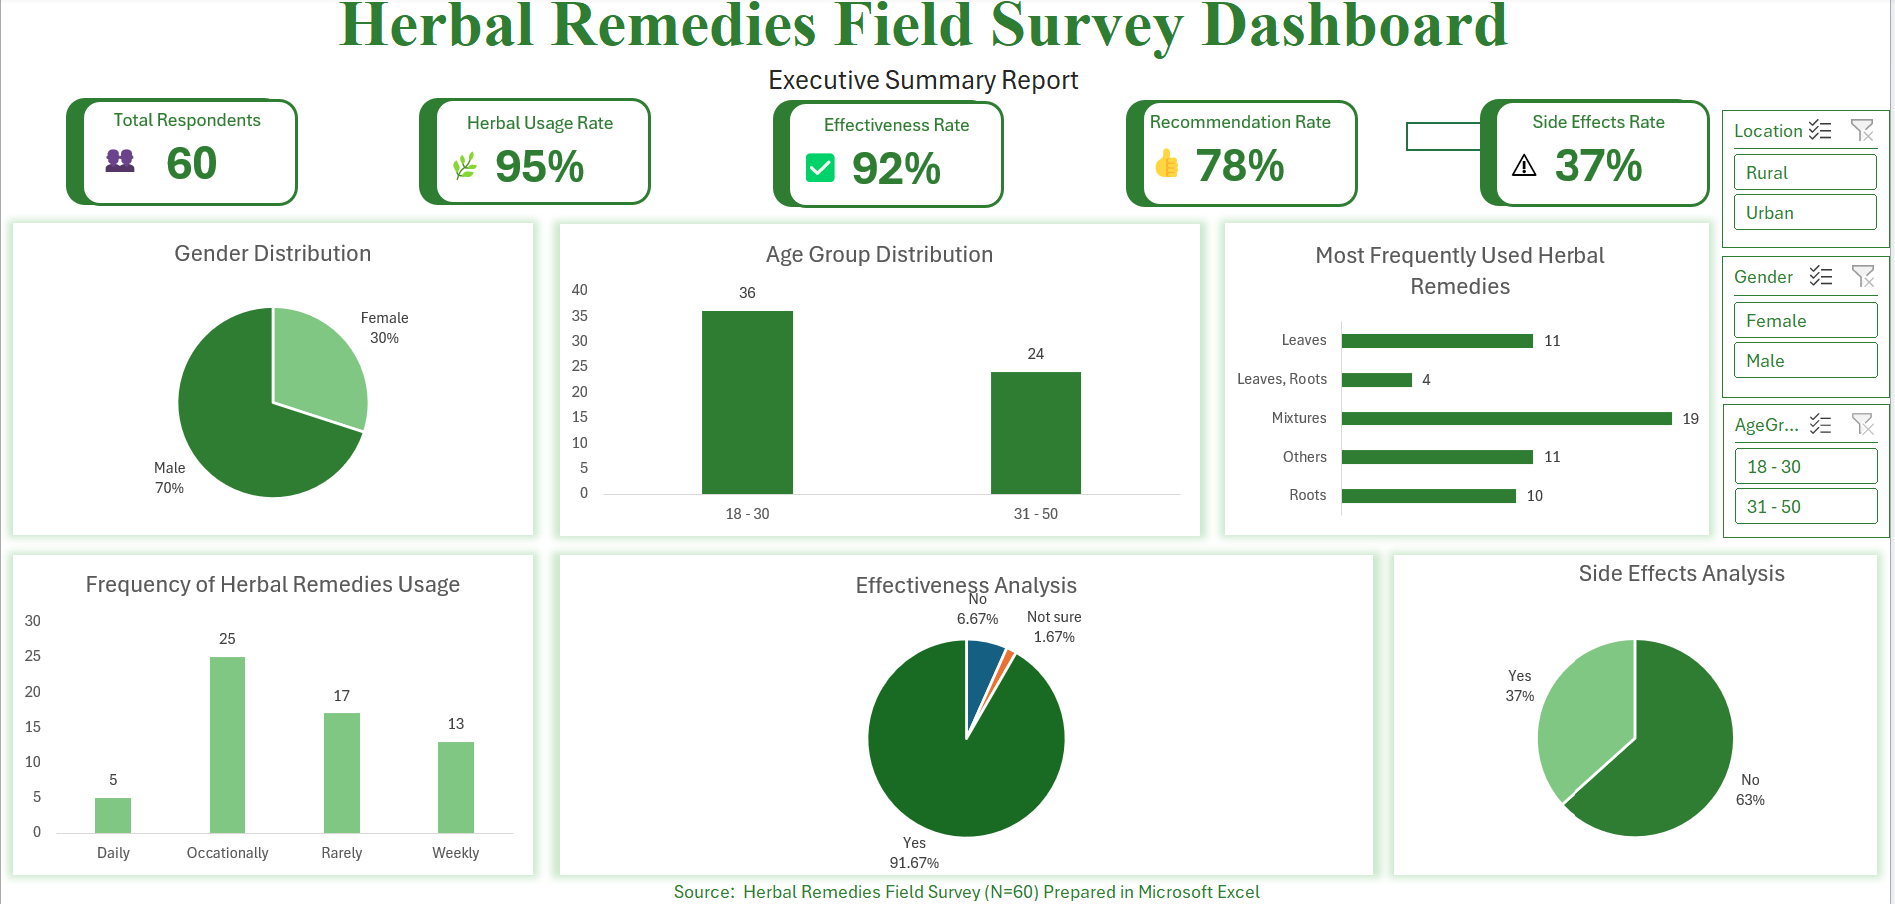

The page's visual inventory and layout, read from the dashboard file:
{"tool":"powerbi","page":{"name":"Executive Dashboard","canvas":[1280,720],"ordinal":0},"visuals":[{"type":"shape","box":[0,0,1279.1,79.5],"z":0},{"type":"textbox","box":[79.6,0,1148.7,54.8],"z":1000},{"type":"textbox","box":[82.1,52.3,1146.2,27.4],"z":2000},{"type":"card","title":"Total Respondents","fields":{"Values":["Measures_View.Total Respondents"]},"box":[13,100.2,204.3,139.2],"z":3000},{"type":"card","title":"Herbal Usage","fields":{"Values":["Measures_View.Herbal Usage %"]},"box":[239.4,98.9,204.3,140.5],"z":4000},{"type":"card","title":"Perceived Effectiveness","fields":{"Values":["Measures_View.Effectiveness %"]},"box":[465.9,98.9,204.3,140.5],"z":5000},{"type":"card","title":"Recommendation Rate","fields":{"Values":["Measures_View.Recommendation %"]},"box":[692.3,97.6,199.1,141.8],"z":6000},{"type":"card","title":"Reported Side Effects","fields":{"Values":["Measures_View.Side Effects %"]},"box":[912,99.4,200.2,137.9],"z":7000},{"type":"donutChart","title":"Gender Distribution","fields":{"Category":["Fact_HerbalSurvey.Gender"],"Y":["Measures_View.Total Respondents"]},"box":[13.7,251.4,364.6,210.3],"z":8000},{"type":"clusteredColumnChart","title":"Respondents by AgeGroup","fields":{"Category":["Fact_HerbalSurvey.AgeGroup"],"Y":["Measures_View.Total Respondents"]},"box":[390.8,251.4,364.6,210.3],"z":9000},{"type":"barChart","title":"Top 5 Most Used Herbs","fields":{"Category":["Fact_HerbalSurvey.HerbsUsed"],"Y":["Measures_View.Total Respondents"]},"box":[13.7,476.6,364.6,210.3],"z":10000},{"type":"clusteredColumnChart","title":"Herbal Remedy Usage Frequency","fields":{"Category":["Fact_HerbalSurvey.UsageFrequency"],"Y":["Measures_View.Total Respondents"]},"box":[390.8,476.6,364.6,210.3],"z":11000},{"type":"donutChart","title":"Perceived Effectiveness","fields":{"Category":["Fact_HerbalSurvey.IsEffective"],"Y":["Measures_View.Total Respondents"]},"box":[767.9,251.4,364.6,210.3],"z":12000},{"type":"donutChart","title":"Reported Side Effects","fields":{"Category":["Fact_HerbalSurvey.HasSideEffects"],"Y":["Measures_View.Total Respondents"]},"box":[767.9,476.6,364.6,210.3],"z":13000},{"type":"slicer","fields":{"Values":["Fact_HerbalSurvey.Gender"]},"box":[1143.7,99.6,119.5,139.4],"z":14000},{"type":"slicer","fields":{"Values":["Fact_HerbalSurvey.AgeGroup"]},"box":[1143.7,475.4,119.5,211.6],"z":15000},{"type":"slicer","fields":{"Values":["Fact_HerbalSurvey.Location"]},"box":[1143.7,251.4,118.2,210.3],"z":16000},{"type":"textbox","box":[11.2,687,365.9,28.6],"z":17000},{"type":"textbox","box":[1081.5,687,181.7,31.1],"z":18000}]}

Visuals, with their boxes on the page's 1280x720 design canvas (x1, y1, x2, y2). These are canvas units, not pixel positions in the 1895x904 screenshot, which may show the page scaled, cropped or inside an application window:
shape: BBox(0, 0, 1279, 80)
textbox: BBox(80, 0, 1228, 55)
textbox: BBox(82, 52, 1228, 80)
"Total Respondents" card: BBox(13, 100, 217, 239)
"Herbal Usage" card: BBox(239, 99, 444, 239)
"Perceived Effectiveness" card: BBox(466, 99, 670, 239)
"Recommendation Rate" card: BBox(692, 98, 891, 239)
"Reported Side Effects" card: BBox(912, 99, 1112, 237)
"Gender Distribution" donutChart: BBox(14, 251, 378, 462)
"Respondents by AgeGroup" clusteredColumnChart: BBox(391, 251, 755, 462)
"Top 5 Most Used Herbs" barChart: BBox(14, 477, 378, 687)
"Herbal Remedy Usage Frequency" clusteredColumnChart: BBox(391, 477, 755, 687)
"Perceived Effectiveness" donutChart: BBox(768, 251, 1132, 462)
"Reported Side Effects" donutChart: BBox(768, 477, 1132, 687)
slicer - Fact_HerbalSurvey.Gender: BBox(1144, 100, 1263, 239)
slicer - Fact_HerbalSurvey.AgeGroup: BBox(1144, 475, 1263, 687)
slicer - Fact_HerbalSurvey.Location: BBox(1144, 251, 1262, 462)
textbox: BBox(11, 687, 377, 716)
textbox: BBox(1082, 687, 1263, 718)
